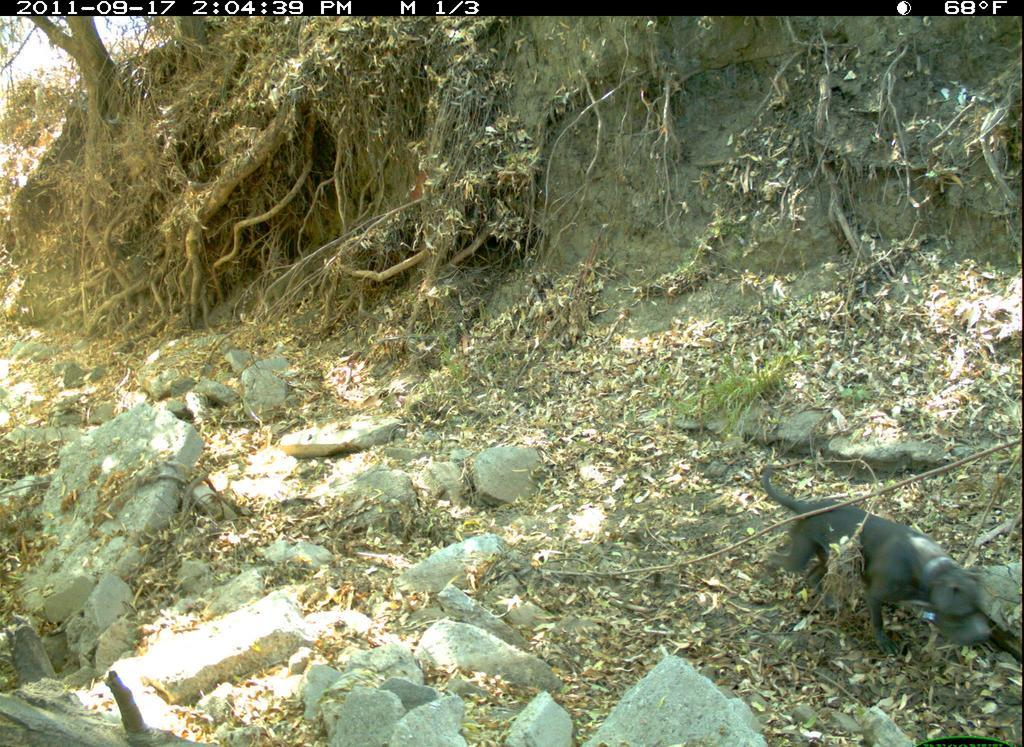dog: (752, 456, 1003, 673)
